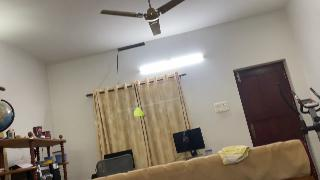shuttlecock: (134, 108, 146, 116)
